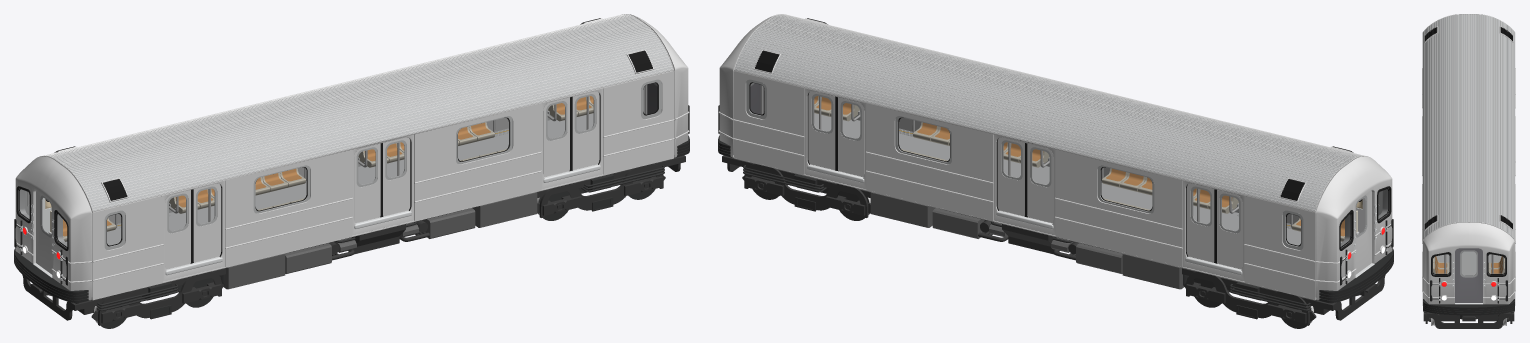
The picture shows the model from 3 angles, left to right: view 1: azimuth 30°, elevation 25°; view 2: azimuth 150°, elevation 25°; view 3: azimuth 270°, elevation 25°; orthographic projection. The views are drawn at different scales.
Visible parts, largest first — view 1: SubwayCar, Door1; view 2: SubwayCar, Door1; view 3: SubwayCar, Door2.
Boxes of the visible parts, x1,y1,x2,y2 form: SubwayCar: (14, 14, 689, 328); Door1: (36, 190, 52, 274); SubwayCar: (718, 14, 1393, 328); Door1: (1355, 190, 1371, 274); SubwayCar: (1422, 14, 1515, 328); Door2: (1455, 248, 1482, 302).
Bounding box in the file's own units: 4530 × 1036 × 787.
